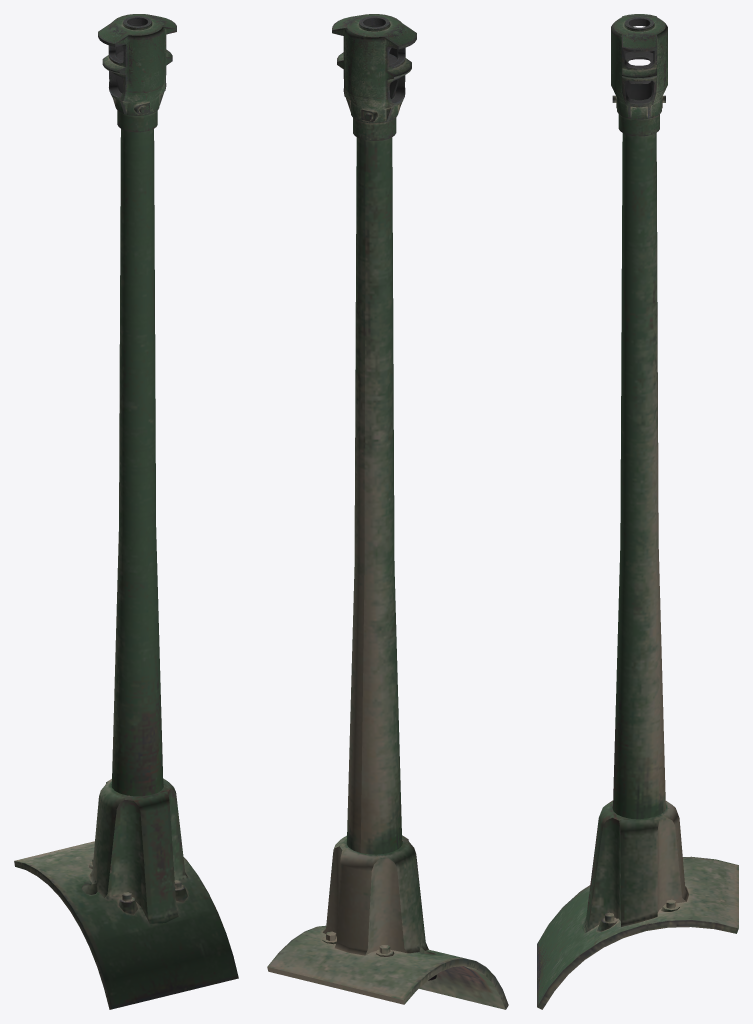
The model's file is Gun_03.glb.
The picture shows the model from 3 angles, left to right: view 1: azimuth 30°, elevation 25°; view 2: azimuth 150°, elevation 25°; view 3: azimuth 270°, elevation 25°; orthographic projection. The views are drawn at different scales.
Visible parts, largest first — view 1: set_0_group_0; view 2: set_0_group_0; view 3: set_0_group_0.
Boxes of the visible parts, bbox=[...] form: set_0_group_0: bbox=[14, 14, 238, 1009]; set_0_group_0: bbox=[267, 14, 508, 1009]; set_0_group_0: bbox=[537, 14, 738, 1009].
Bounding box in the file's own units: 0.5852 × 4.13 × 0.785.
1 material, 1 textured.
